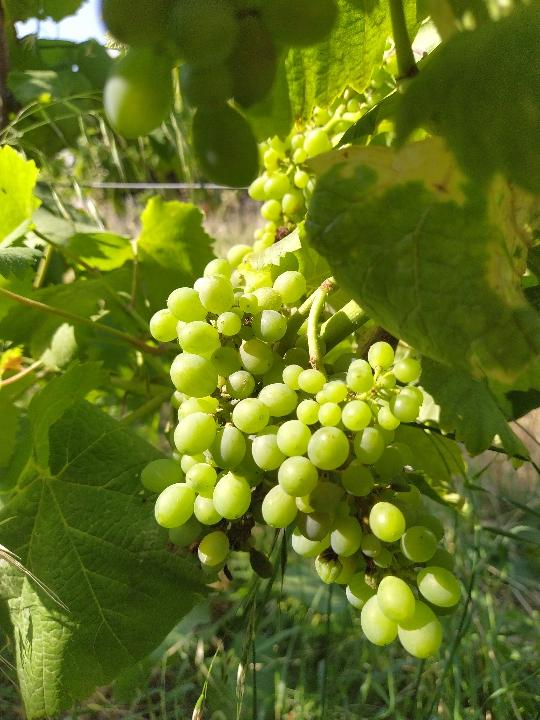grape: (136, 239, 464, 665)
